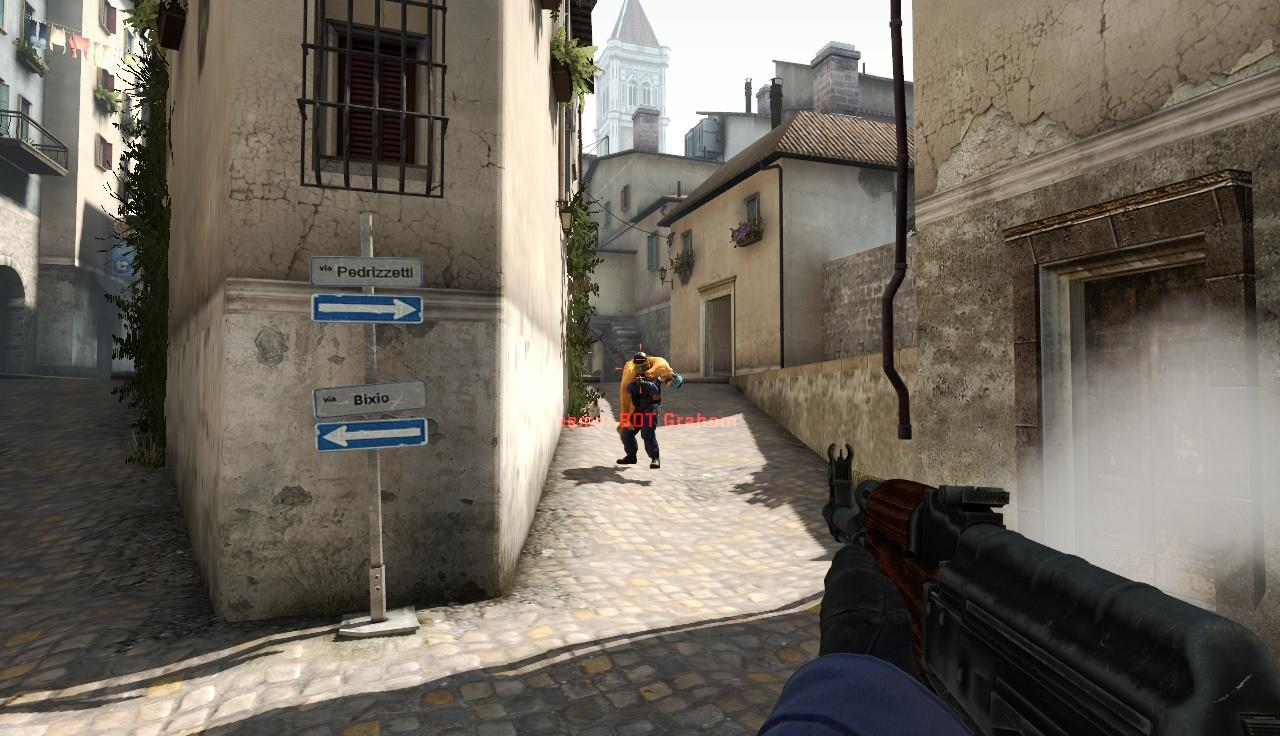ct: (626, 353, 658, 463)
cthead: (632, 354, 650, 379)
rifle: (812, 442, 1280, 736)
